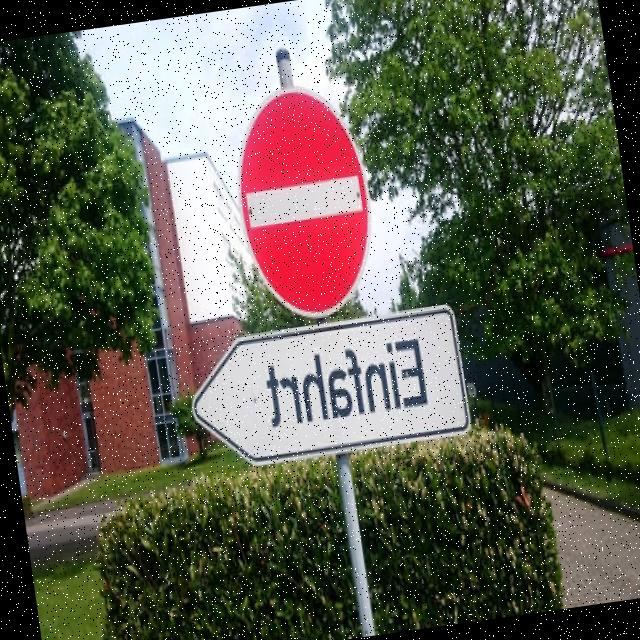do_not_enter: (215, 71, 386, 326)
